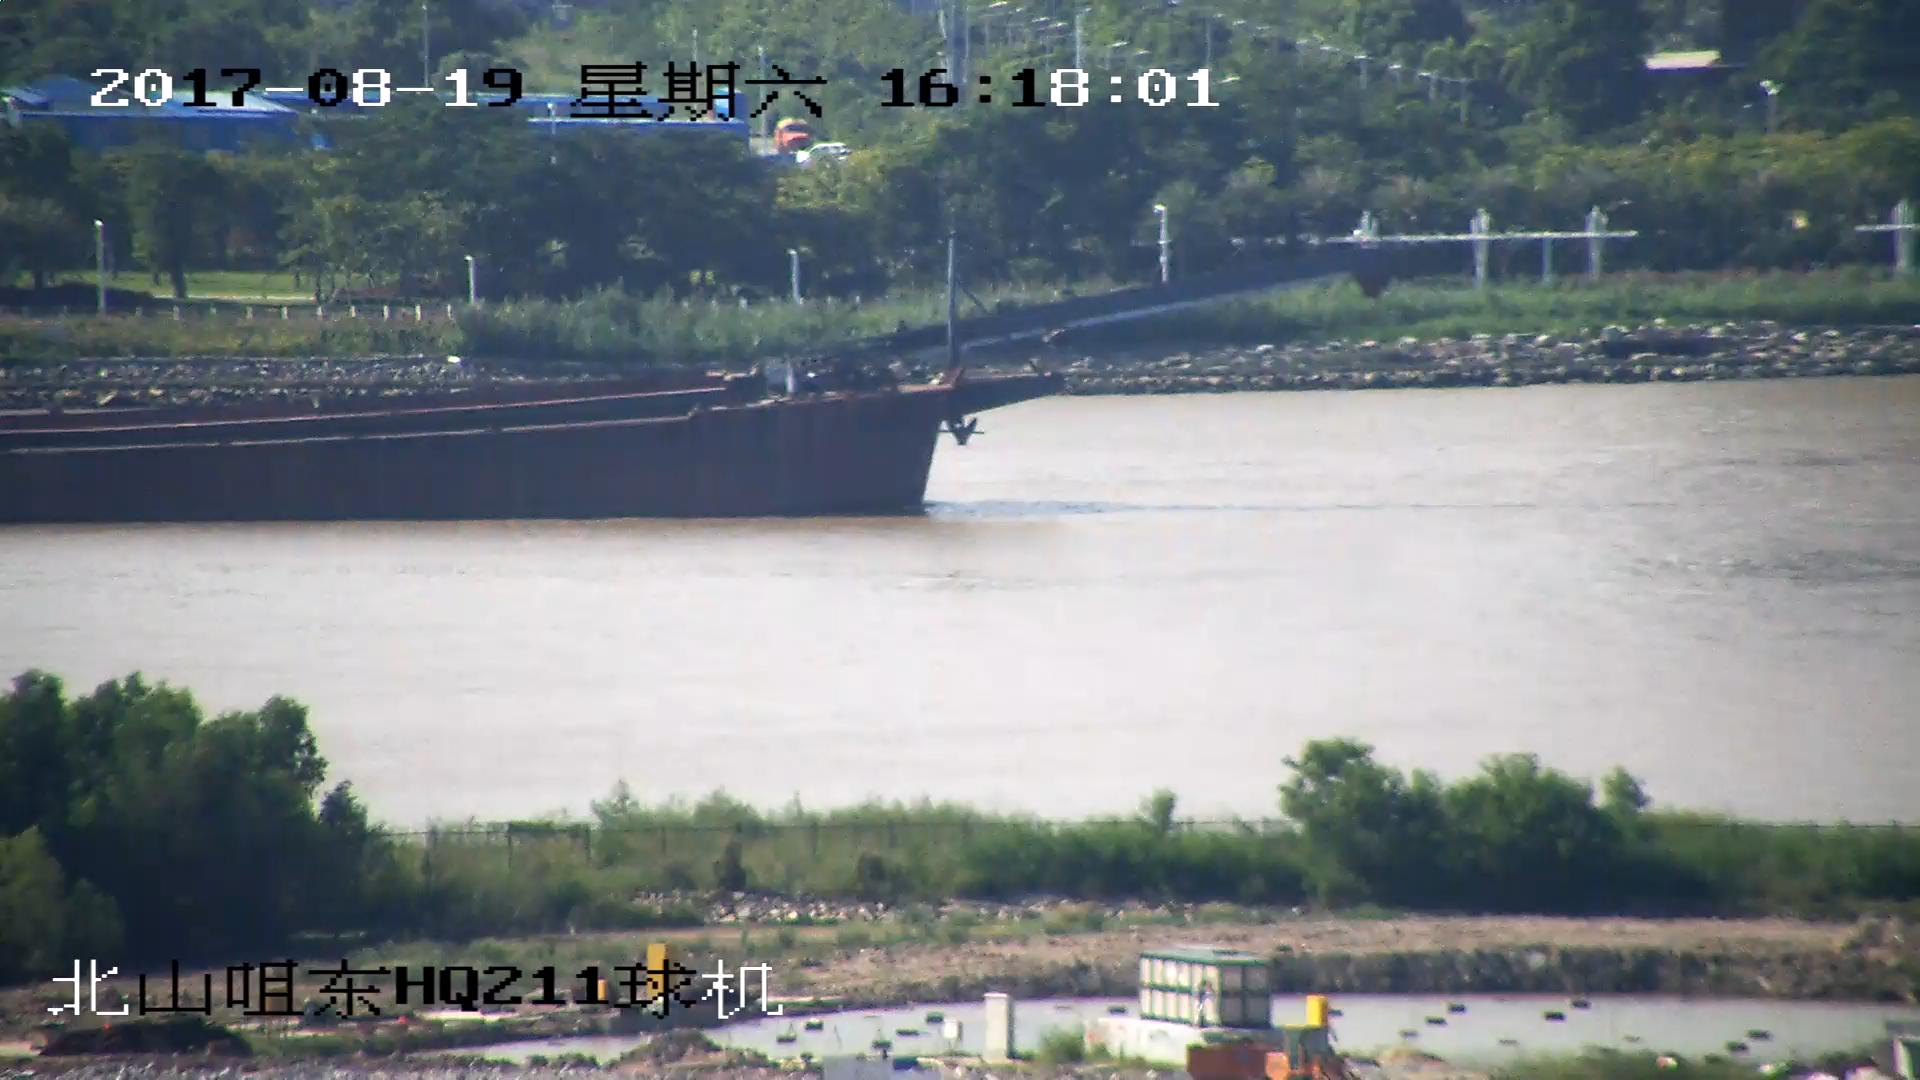bulk cargo carrier: (1, 245, 1382, 521)
